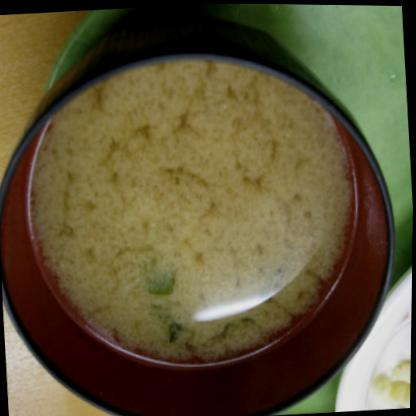miso soup: (15, 44, 369, 392)
